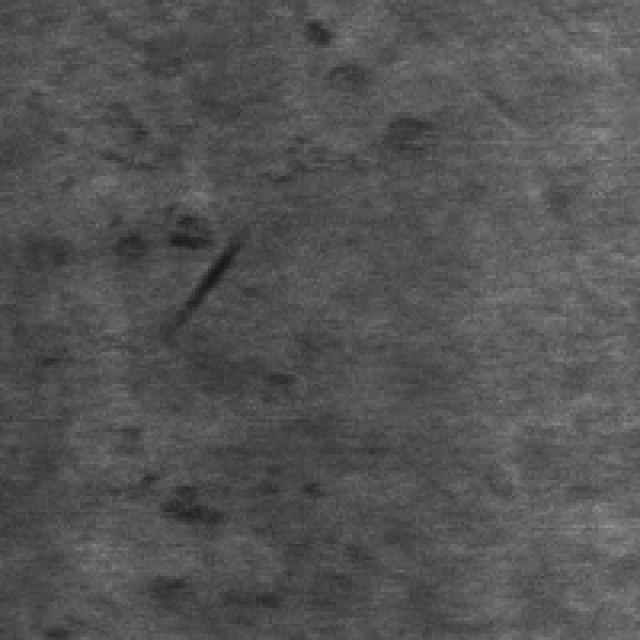rolled-in_scale: (38, 96, 215, 262), (90, 400, 224, 534)
